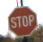stopsign: (8, 5, 38, 36)
